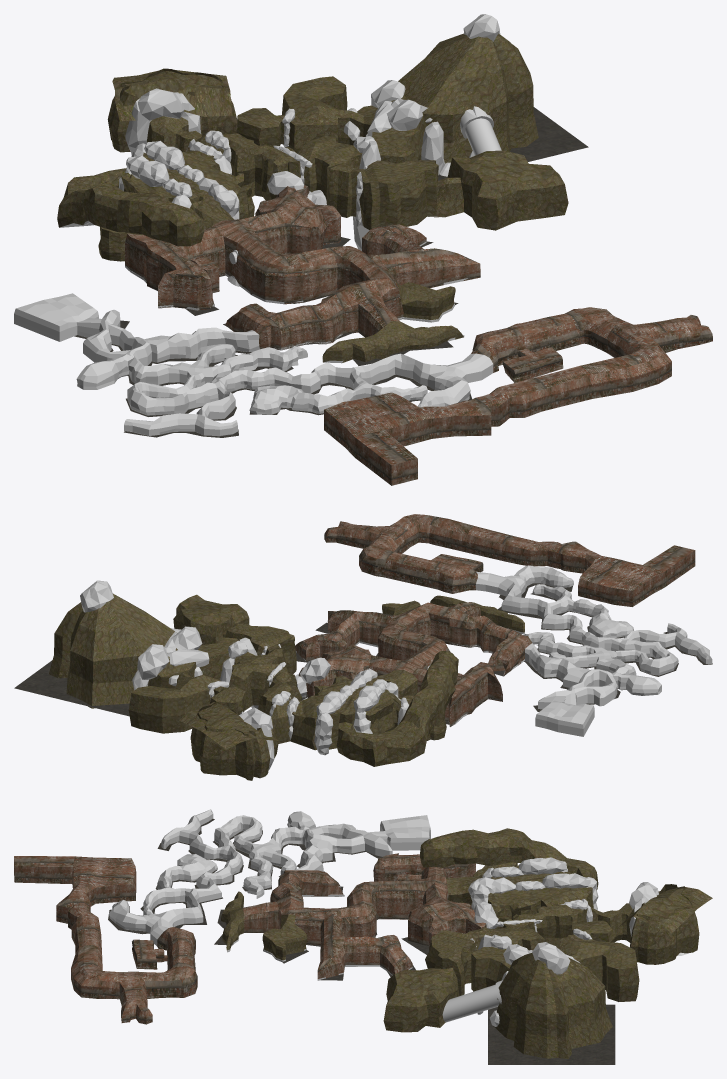
The model's file is TestForUnity.fbx.
3 views of the same model, one above another, from view 1: azimuth 30°, elevation 25°; view 2: azimuth 150°, elevation 25°; view 3: azimuth 270°, elevation 25° (orthographic). The views are drawn at different scales.
Parts seen in each view (by area): view 1: ground_GEO.001, ground_GEO.019, ground_GEO.028, rock_GEO, ground_GEO.031, mud_Water?Sewers_GEO.001, mud_Water_GEO.001, tube_Big_GEO.001, sewers_Sidewalk_GEO; view 2: ground_GEO.001, ground_GEO.019, ground_GEO.028, rock_GEO, ground_GEO.031, mud_Water_GEO.001, mud_Water?Sewers_GEO.001; view 3: ground_GEO.001, ground_GEO.019, ground_GEO.028, rock_GEO, mud_Water_GEO.001, mud_Water?Sewers_GEO.001, ground_GEO.031, tube_Big_GEO.001.
Boxes of the visible parts, left/top/right/bottom form: ground_GEO.001: left=57, top=33, right=568, bottom=362; ground_GEO.019: left=125, top=185, right=712, bottom=485; ground_GEO.028: left=76, top=310, right=493, bottom=435; rock_GEO: left=118, top=14, right=500, bottom=250; ground_GEO.031: left=14, top=293, right=101, bottom=341; mud_Water?Sewers_GEO.001: left=74, top=237, right=471, bottom=437; mud_Water_GEO.001: left=438, top=107, right=588, bottom=180; tube_Big_GEO.001: left=460, top=106, right=501, bottom=155; sewers_Sidewalk_GEO: left=125, top=241, right=468, bottom=363; ground_GEO.001: left=49, top=593, right=524, bottom=780; ground_GEO.019: left=295, top=514, right=695, bottom=726; ground_GEO.028: left=476, top=565, right=712, bottom=709; rock_GEO: left=80, top=580, right=409, bottom=769; ground_GEO.031: left=535, top=693, right=594, bottom=736; mud_Water_GEO.001: left=14, top=660, right=129, bottom=716; mud_Water?Sewers_GEO.001: left=296, top=583, right=712, bottom=724; ground_GEO.001: left=221, top=828, right=712, bottom=1058; ground_GEO.019: left=14, top=853, right=486, bottom=1024; ground_GEO.028: left=109, top=809, right=392, bottom=946; rock_GEO: left=462, top=857, right=658, bottom=1026; mud_Water_GEO.001: left=488, top=1004, right=615, bottom=1064; mud_Water?Sewers_GEO.001: left=108, top=818, right=428, bottom=980; ground_GEO.031: left=368, top=815, right=430, bottom=850; tube_Big_GEO.001: left=442, top=980, right=502, bottom=1022.
Bounding box in the file's own units: 114 × 28.78 × 135.
